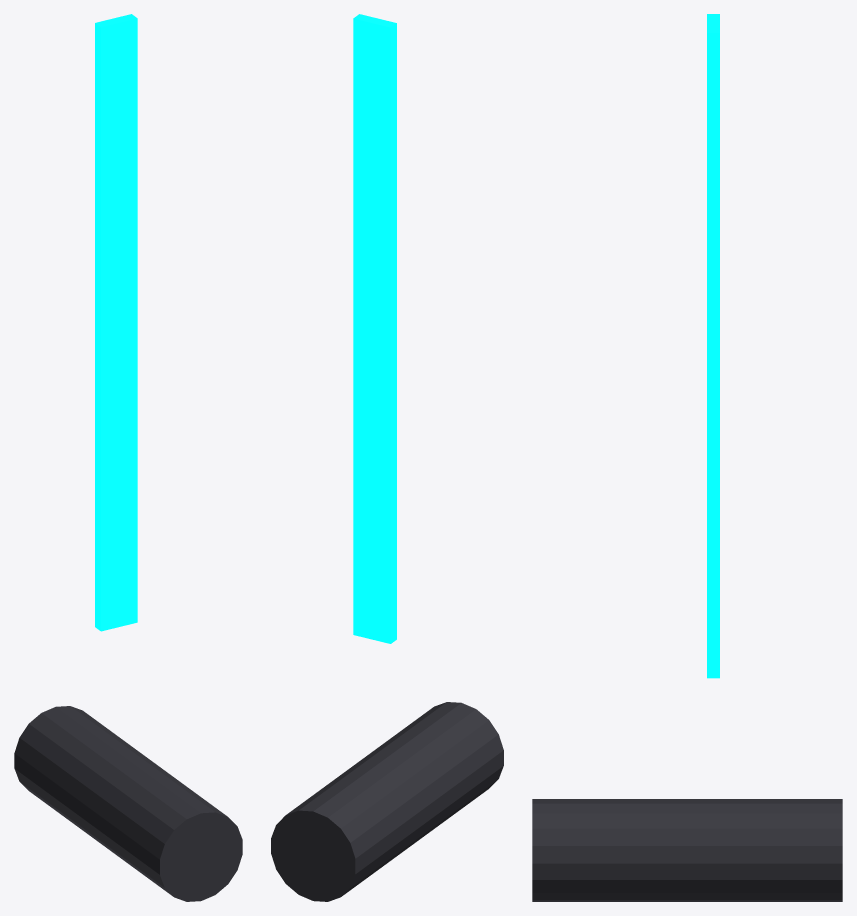
The model's file is energy_sword_generic.glb.
The picture shows the model from 3 angles, left to right: view 1: azimuth 30°, elevation 25°; view 2: azimuth 150°, elevation 25°; view 3: azimuth 270°, elevation 25°; orthographic projection. The views are drawn at different scales.
Visible parts, largest first — view 1: blade, hilt; view 2: blade, hilt; view 3: hilt, blade.
Part boxes in pixels (x1,y1,x2,y2): blade: (95, 14, 137, 631); hilt: (14, 706, 242, 901); blade: (353, 14, 396, 643); hilt: (271, 702, 503, 901); hilt: (532, 799, 842, 901); blade: (707, 14, 719, 678).
Bounding box in the file's own units: 0.0788 × 0.745 × 0.24.
